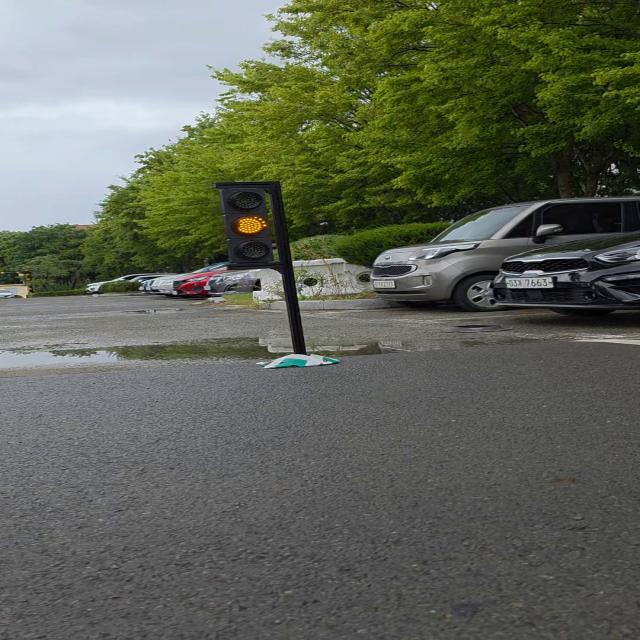yellow: (219, 186, 274, 266)
